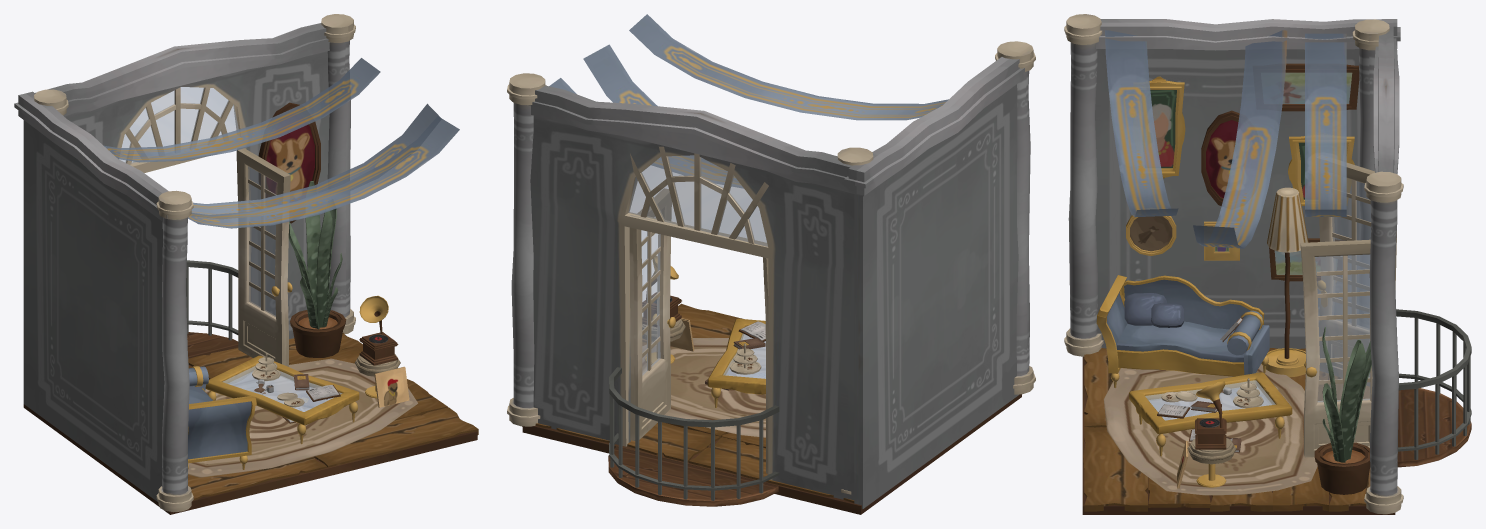
File: royal retreat 3.glb
3 views of the same model, side by side, from view 1: azimuth 30°, elevation 25°; view 2: azimuth 150°, elevation 25°; view 3: azimuth 270°, elevation 25° (orthographic). The views are drawn at different scales.
Parts seen in each view (by area): view 1: pCylinder70; view 2: pCylinder70; view 3: pCylinder70.
Boxes of the visible parts, left/top/right/bottom form: pCylinder70: left=14, top=14, right=478, bottom=514; pCylinder70: left=507, top=14, right=1035, bottom=514; pCylinder70: left=1064, top=14, right=1471, bottom=514.
Bounding box in the file's own units: 3.91 × 3.58 × 3.82.
1 material, 1 textured.
